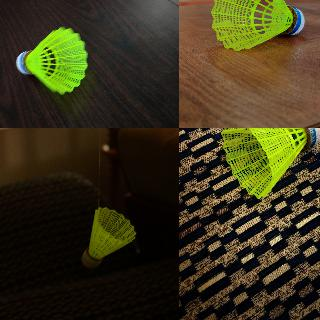shuttlecock: (220, 128, 319, 200), (210, 0, 305, 52), (15, 26, 86, 94), (80, 208, 136, 268)
